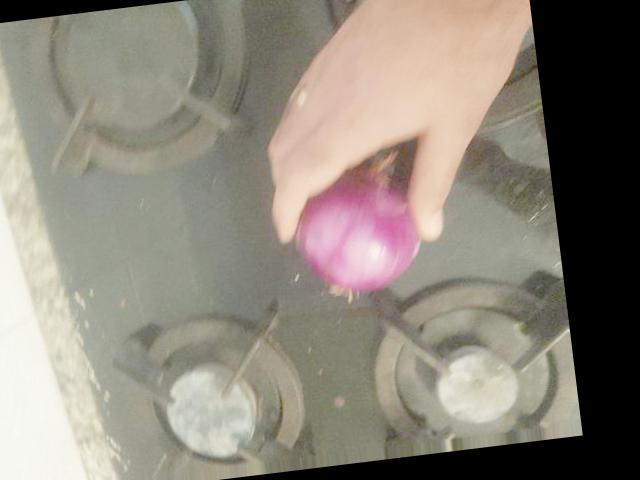onion: (289, 170, 424, 300)
